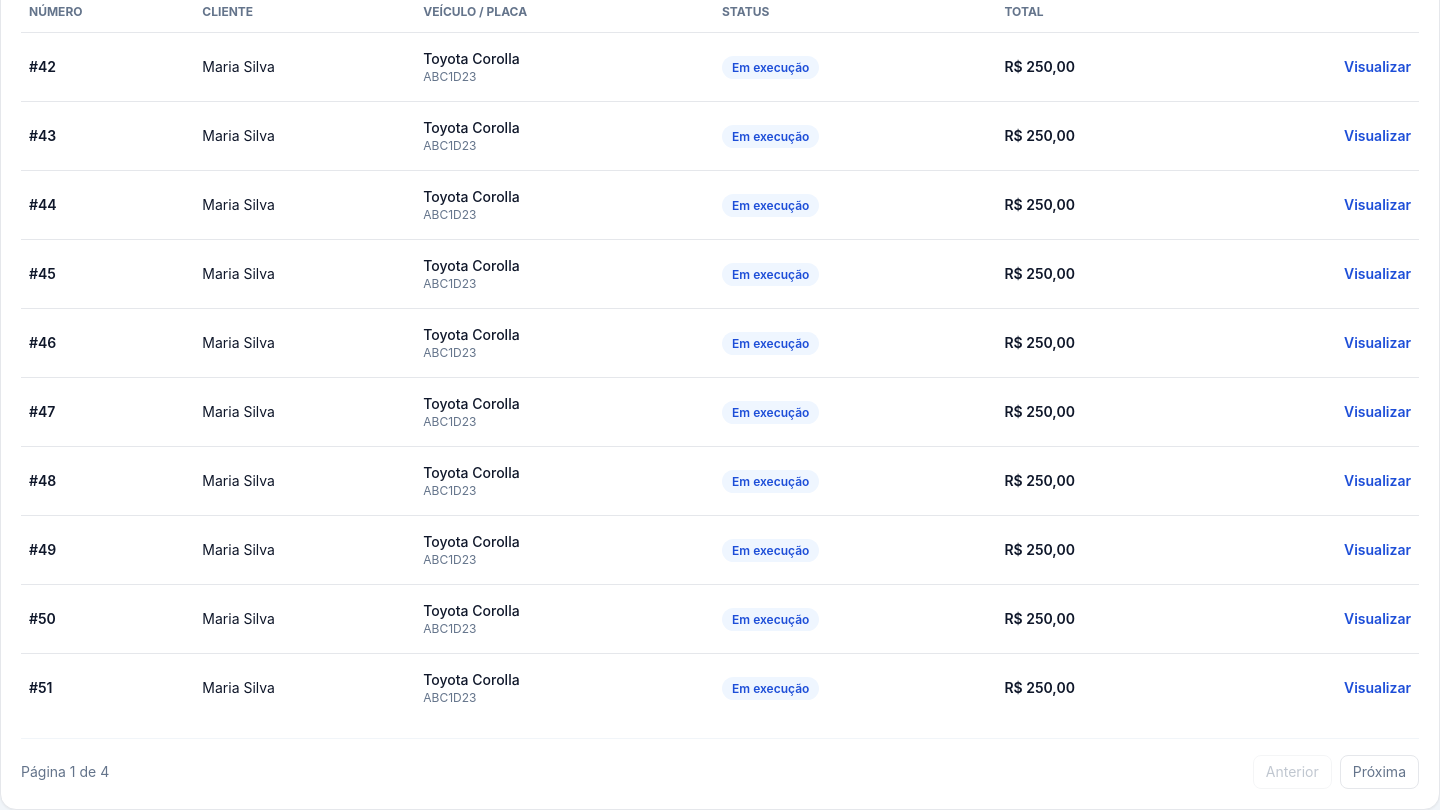
it: work orders operational list › paginates the filtered list locally
This screenshot has width=1440, height=810.
(page scrolled)
Expected: the text "#42" is shown, [21, 32, 194, 102]
Expected: the text "Página 1 de 4" is shown, [21, 762, 109, 782]
Click the button "Próxima": (1379, 772) [1340, 755, 1419, 789]
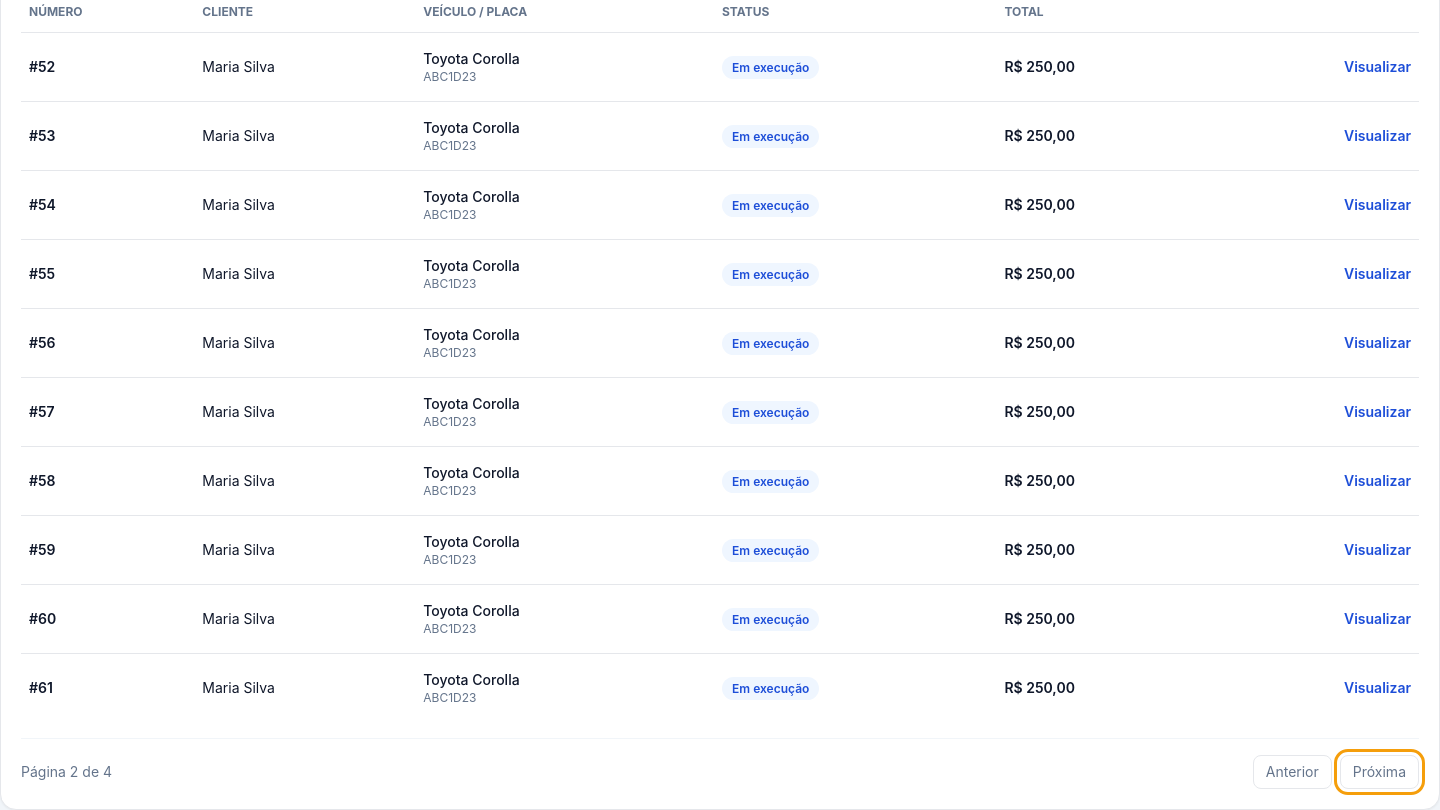
Expected: the text "#52" is shown, [21, 32, 194, 102]
Expected: the text "Página 2 de 4" is shown, [21, 762, 112, 782]
Click the button "Próxima": (1379, 772) [1340, 755, 1419, 789]
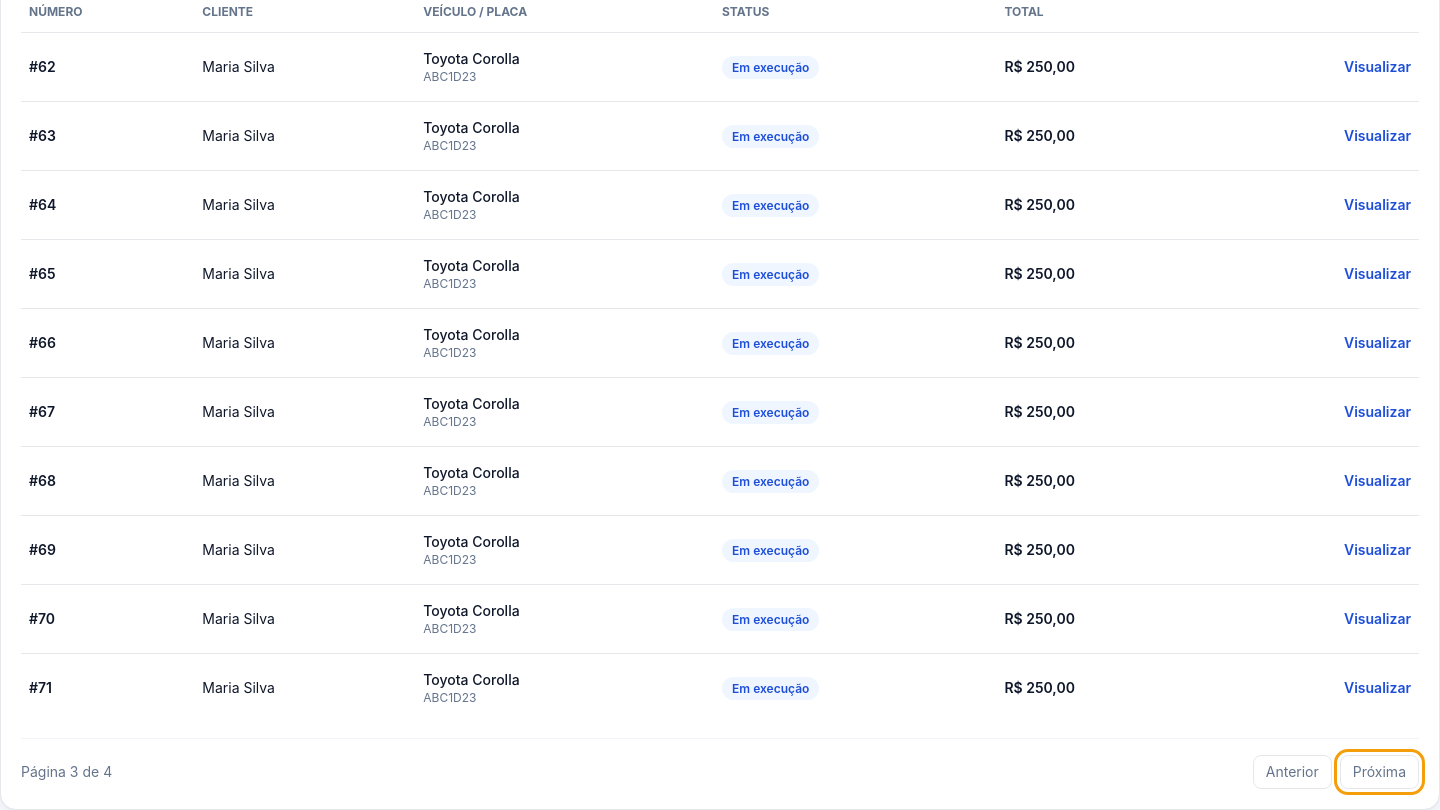
Expected: the text "#62" is shown, [21, 32, 194, 102]
Expected: the text "Página 3 de 4" is shown, [21, 762, 112, 782]
Click the button "Próxima": (1379, 772) [1340, 755, 1419, 789]
(page scrolled)
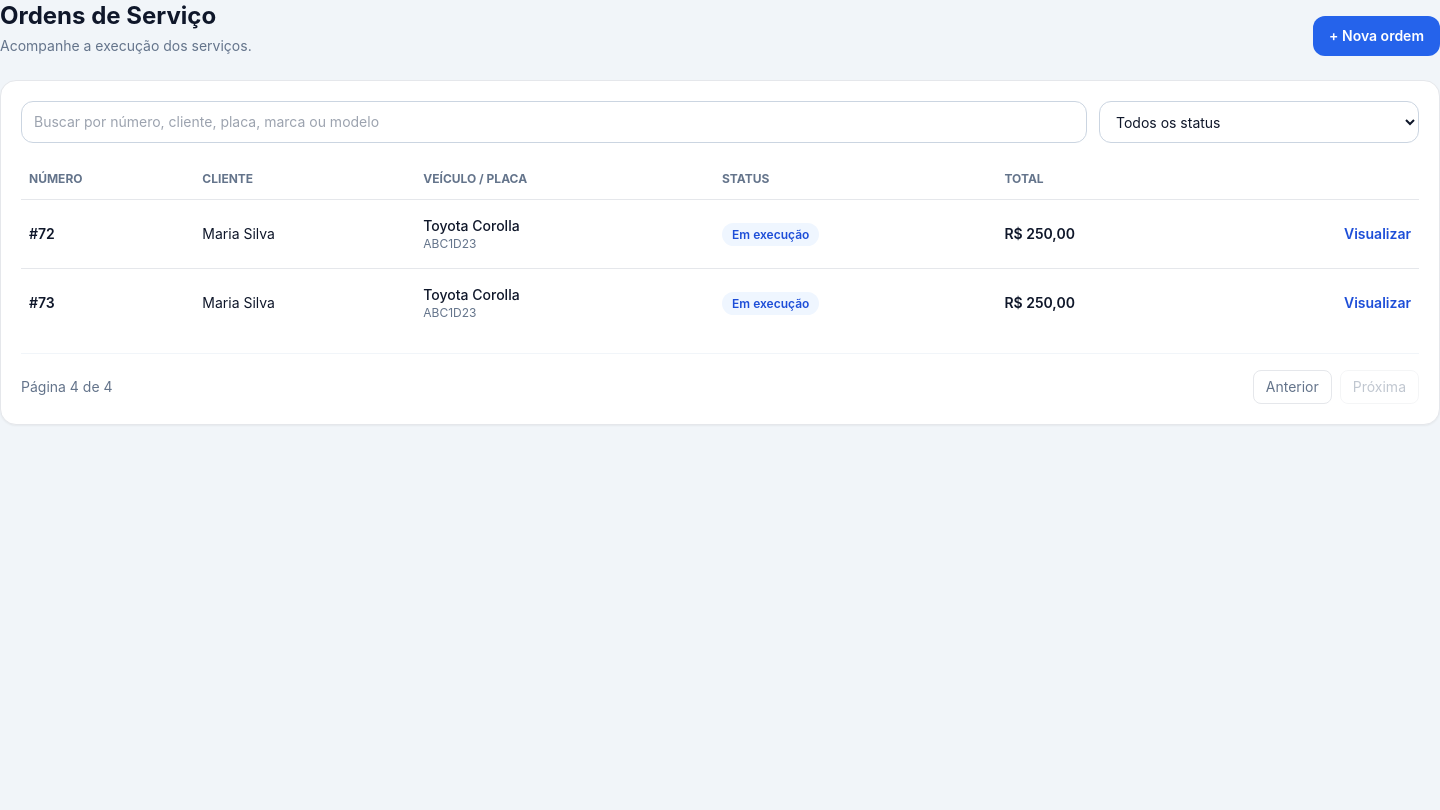
Expected: the text "#72" is shown, [21, 200, 194, 268]
Expected: the text "Página 4 de 4" is shown, [21, 377, 113, 397]
